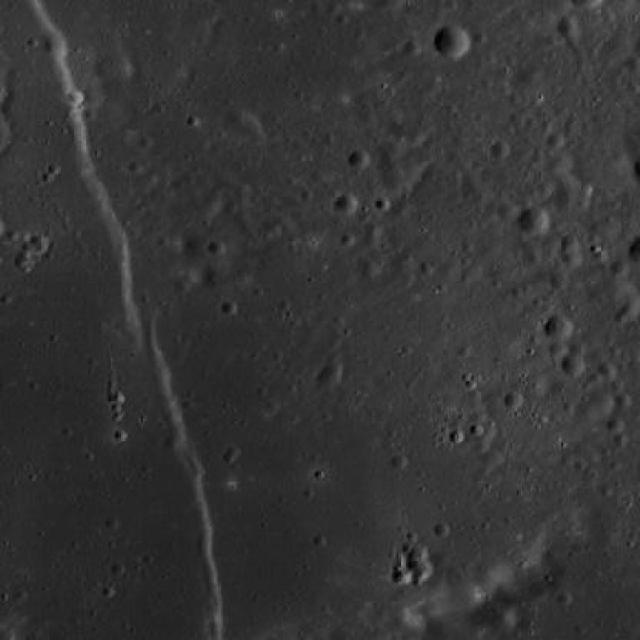crater: (372, 147, 423, 195), (433, 24, 472, 60), (95, 52, 132, 86), (598, 34, 634, 66), (548, 178, 582, 208), (518, 208, 550, 236), (516, 61, 546, 90), (233, 115, 264, 143), (585, 392, 613, 416), (544, 315, 570, 340), (558, 354, 584, 378), (316, 364, 342, 388), (220, 108, 246, 132), (574, 401, 600, 424), (546, 154, 572, 177), (403, 546, 428, 569), (556, 15, 579, 37), (601, 275, 624, 297), (334, 193, 357, 214), (497, 201, 520, 221), (348, 149, 370, 169), (608, 258, 630, 278), (562, 249, 584, 269), (412, 560, 432, 580), (359, 262, 379, 281), (489, 140, 509, 158), (620, 298, 640, 316), (391, 568, 411, 586), (536, 182, 556, 200), (480, 450, 500, 468), (388, 122, 408, 140), (544, 0, 567, 15), (502, 392, 521, 410), (406, 125, 424, 144), (596, 363, 616, 380), (560, 234, 578, 252), (550, 272, 568, 290), (522, 250, 540, 268), (403, 39, 422, 56), (604, 416, 624, 432), (364, 220, 382, 237), (568, 340, 586, 357), (548, 339, 566, 356), (370, 0, 393, 12), (547, 133, 564, 149), (614, 393, 631, 409), (624, 55, 640, 72), (66, 90, 83, 106), (0, 0, 6, 5)
